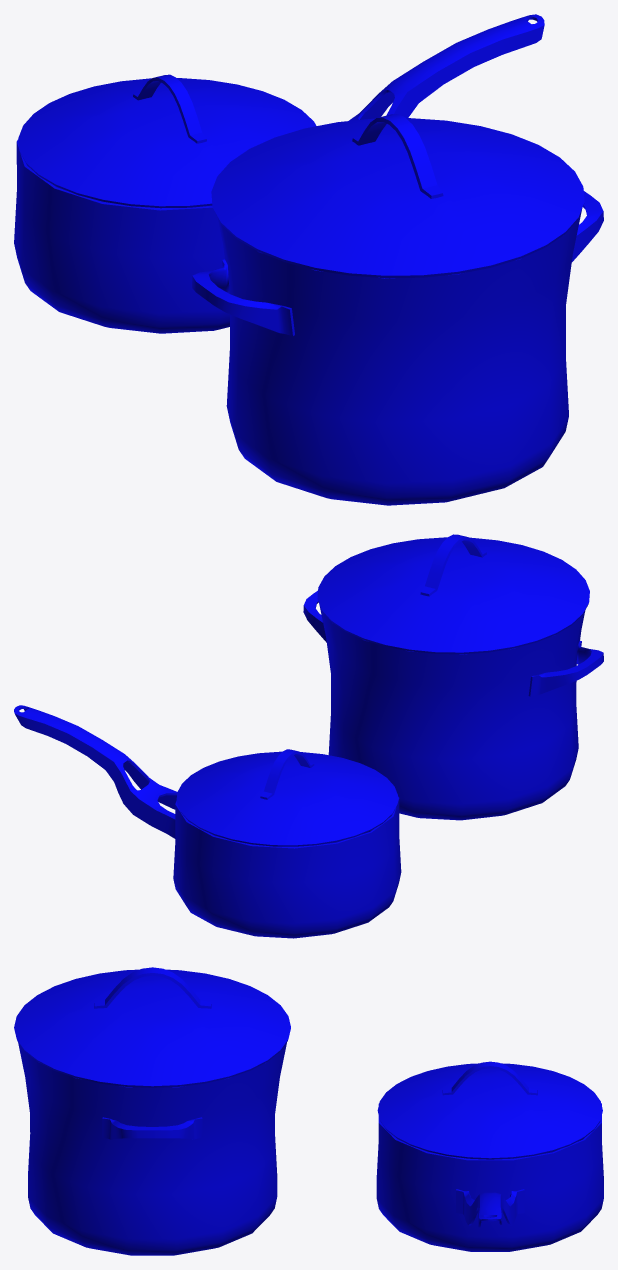
File: kastruli.fbx
3 views of the same model, one above another, from view 1: azimuth 30°, elevation 25°; view 2: azimuth 150°, elevation 25°; view 3: azimuth 270°, elevation 25° (orthographic). The views are drawn at different scales.
Visible parts, largest first — view 1: kastrula2, kastrula2_top, kastrula1, kastrula1_top; view 2: kastrula2, kastrula1, kastrula2_top, kastrula1_top; view 3: kastrula2, kastrula2_top, kastrula1, kastrula1_top.
Boxes of the visible parts, x1=… form: kastrula2: x1=192, y1=191, x2=603, y2=505; kastrula2_top: x1=211, y1=114, x2=584, y2=278; kastrula1: x1=14, y1=14, x2=544, y2=333; kastrula1_top: x1=18, y1=74, x2=316, y2=208; kastrula2: x1=303, y1=590, x2=603, y2=820; kastrula1: x1=14, y1=705, x2=401, y2=938; kastrula2_top: x1=317, y1=534, x2=589, y2=654; kastrula1_top: x1=176, y1=749, x2=397, y2=846; kastrula2: x1=18, y1=1042, x2=286, y2=1255; kastrula2_top: x1=14, y1=967, x2=290, y2=1087; kastrula1: x1=376, y1=1103, x2=603, y2=1251; kastrula1_top: x1=377, y1=1061, x2=602, y2=1159.
Bounding box in the file's own units: 0.419 × 0.232 × 0.5117.
